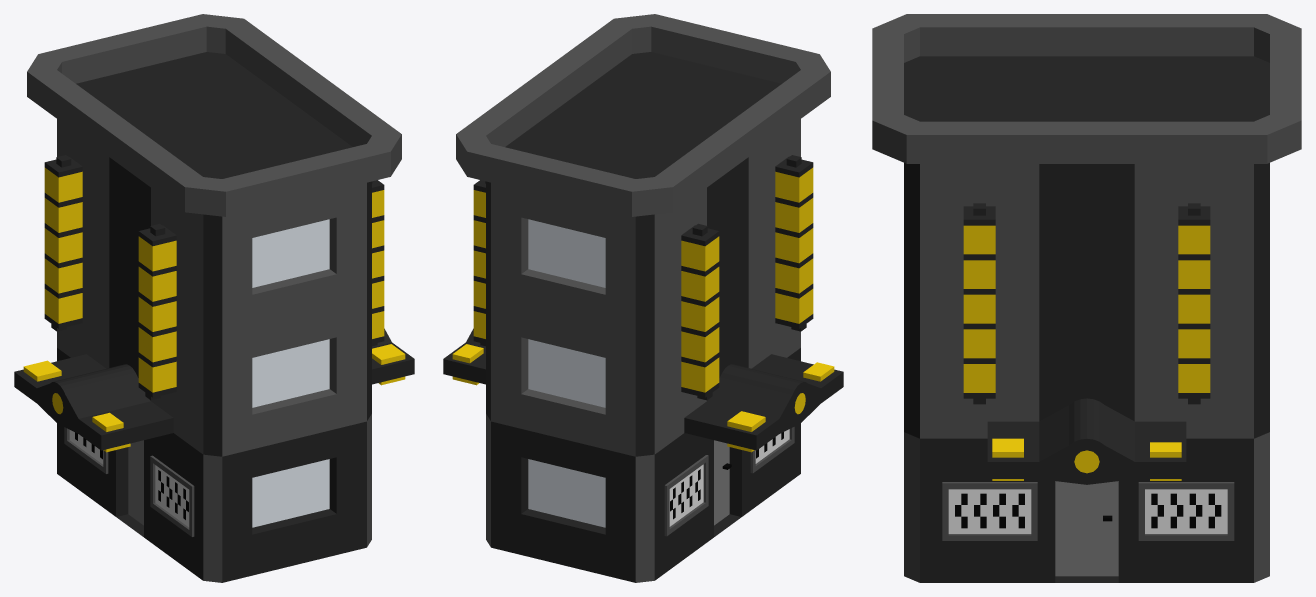
File: Edificio 22.fbx
3 views of the same model, side by side, from view 1: azimuth 30°, elevation 25°; view 2: azimuth 150°, elevation 25°; view 3: azimuth 270°, elevation 25° (orthographic). The views are drawn at different scales.
Parts seen in each view (by area): view 1: [4910], Pared 2 [4996], [3314] (×2), Luces [3574] (×2), Luces [3571]; view 2: [4910], Pared 2 [4993], [3314] (×2), Luces [3571] (×2), Luces [3574]; view 3: [3314], [4910], Luces [3571], Luces [3574].
Boxes of the visible parts, x1,y1,x2,y2 form: [4910]: (27,14,401,582); Pared 2 [4996]: (222,182,366,582); [3314] (×2): (14,119,414,580); Luces [3574] (×2): (44,155,384,346); Luces [3571]: (138,223,176,400); [4910]: (456,14,830,582); Pared 2 [4993]: (491,182,635,582); [3314] (×2): (443,119,843,580); Luces [3571] (×2): (473,155,813,346); Luces [3574]: (681,223,719,400); [3314]: (920,164,1253,582); [4910]: (872,14,1301,582); Luces [3571]: (1178,203,1210,404); Luces [3574]: (963,203,995,404).
Size of the model in its own units: 512 by 531 by 630.
